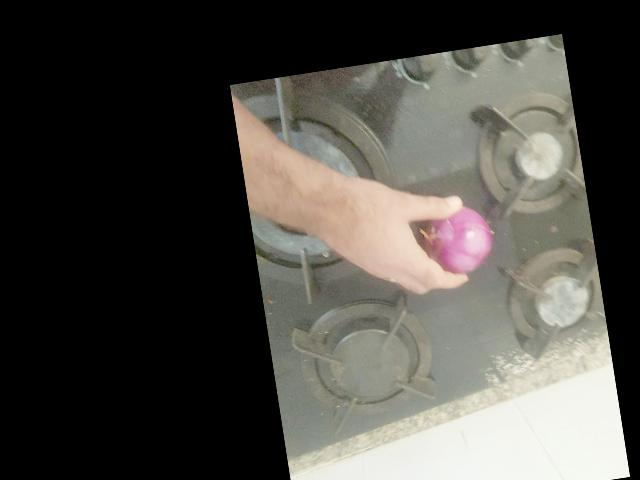onion: (495, 319, 573, 397)
